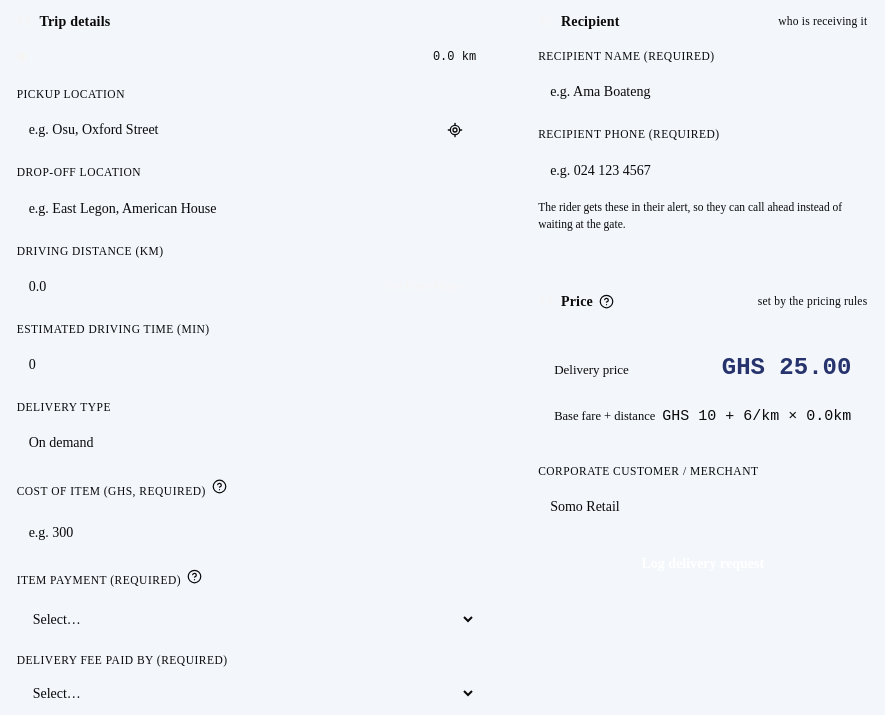
it: pickup location button › writes the geocoded address into the pickup field
The width and height of the screenshot is (885, 715).
Click the button named "Use my current location" at (455,130), box [435,110,475,149]
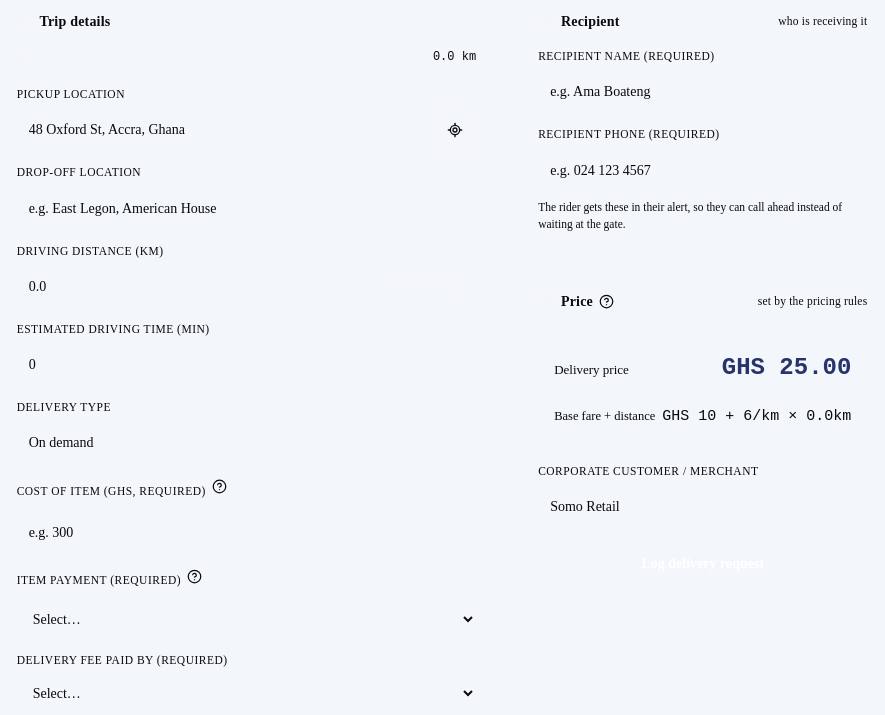
Check: the field with placeholder "e.g. Osu, Oxford Street" holds "48 Oxford St, Accra, Ghana", box [17,109,476,150]
